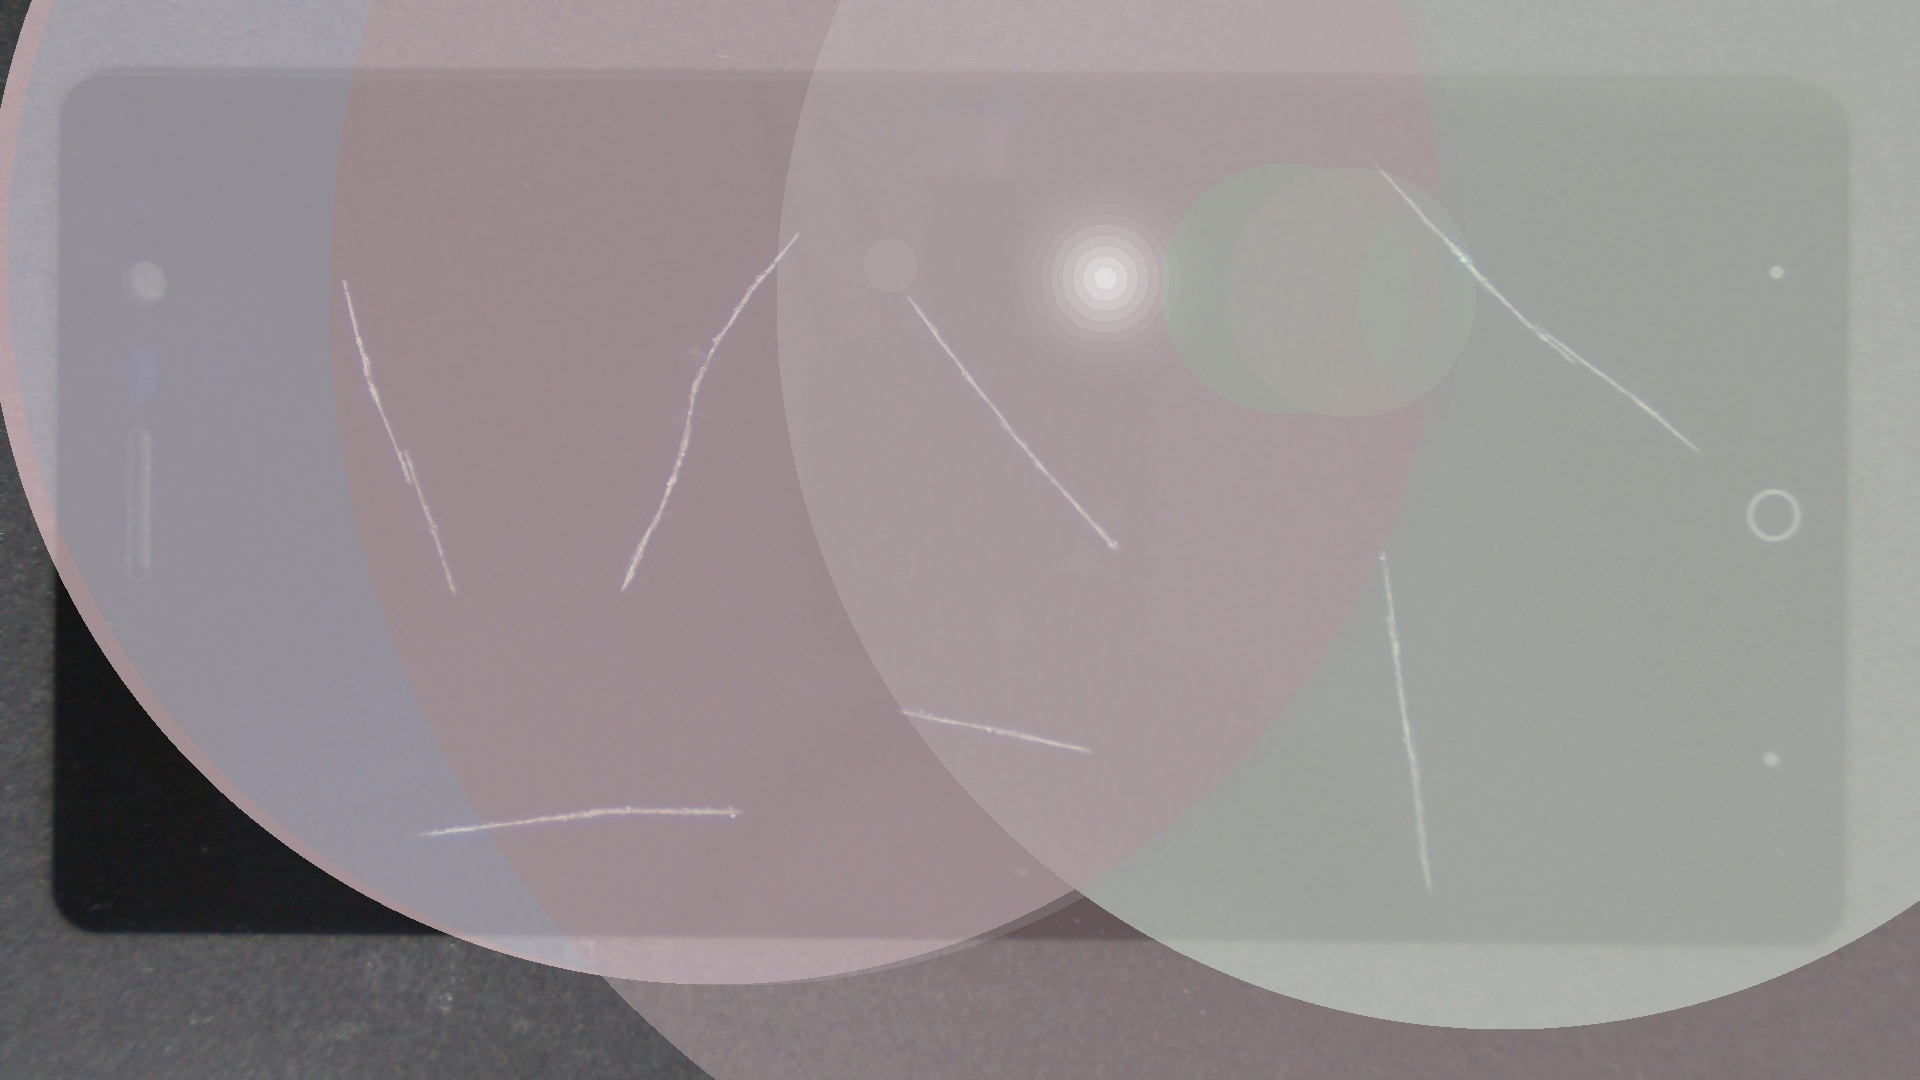oil: (691, 274, 1920, 825), (444, 352, 1340, 1064), (306, 402, 916, 1080), (452, 146, 1357, 442), (687, 80, 1920, 244), (400, 115, 1197, 347), (174, 138, 518, 415)
